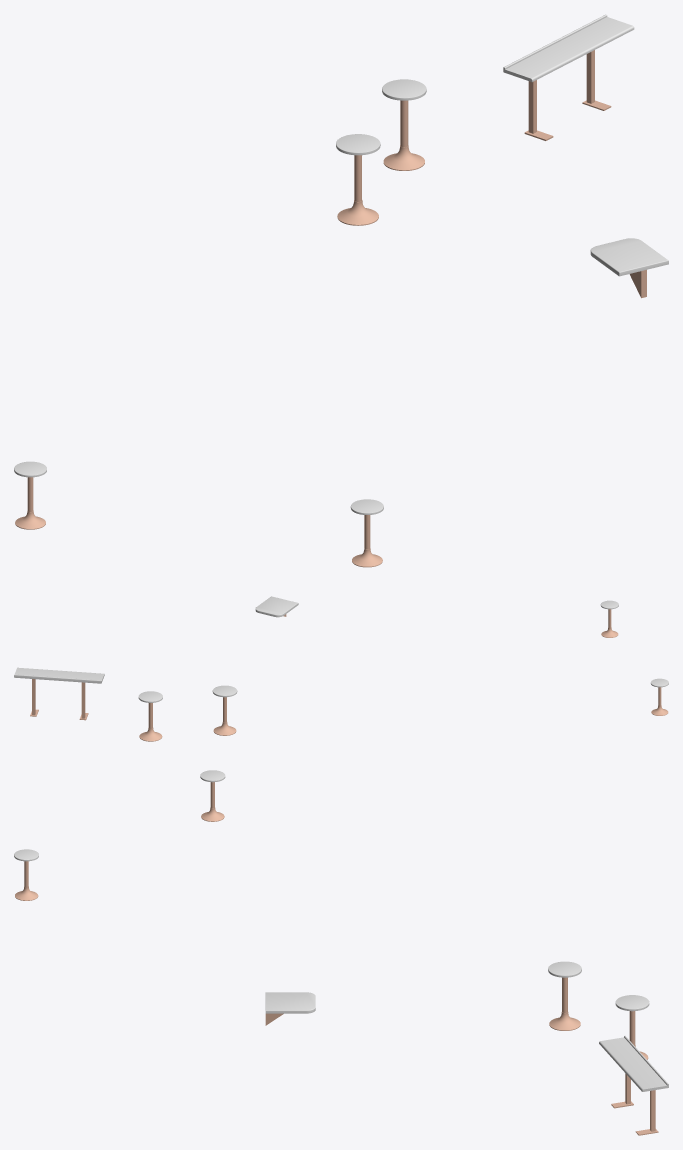
Rendered from MULTITABLES.glb.
The picture shows the model from 3 angles, top to bottom: view 1: azimuth 30°, elevation 25°; view 2: azimuth 150°, elevation 25°; view 3: azimuth 270°, elevation 25°; orthographic projection. The views are drawn at different scales.
Parts seen in each view (by area): view 1: 9-MULTI-TABLES; view 2: 9-MULTI-TABLES; view 3: 9-MULTI-TABLES.
Part boxes in pixels (<box>): 9-MULTI-TABLES: <box>14,14,668,567</box>; 9-MULTI-TABLES: <box>14,596,668,741</box>; 9-MULTI-TABLES: <box>14,770,668,1135</box>.
Bounding box in the file's own units: 14.01 × 1.12 × 11.62.
